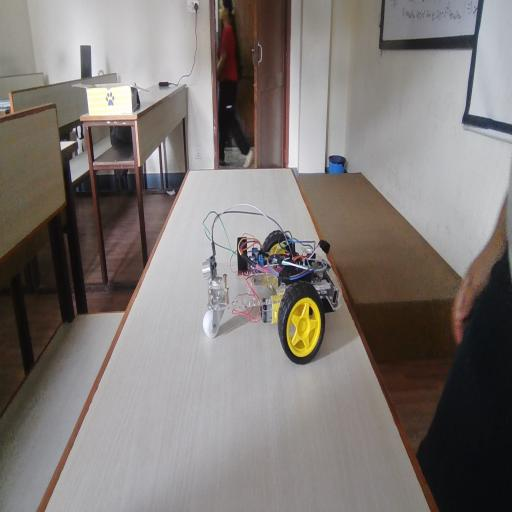car: (193, 200, 334, 361)
